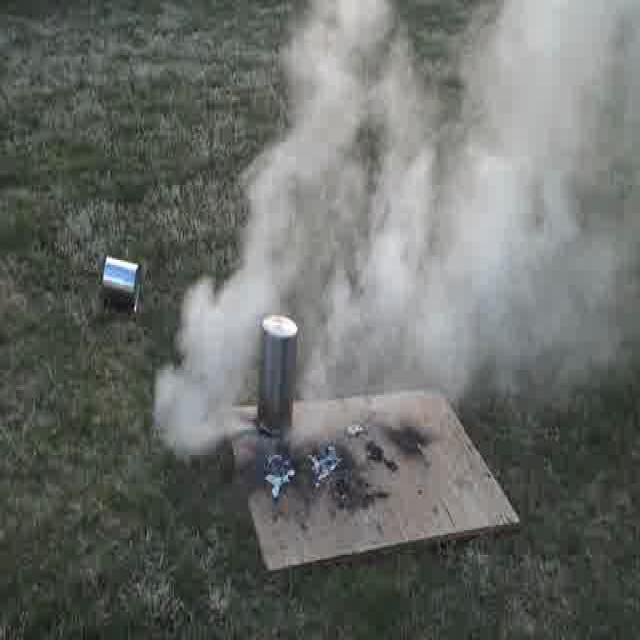Smoke: (302, 3, 634, 402), (162, 266, 264, 456)
